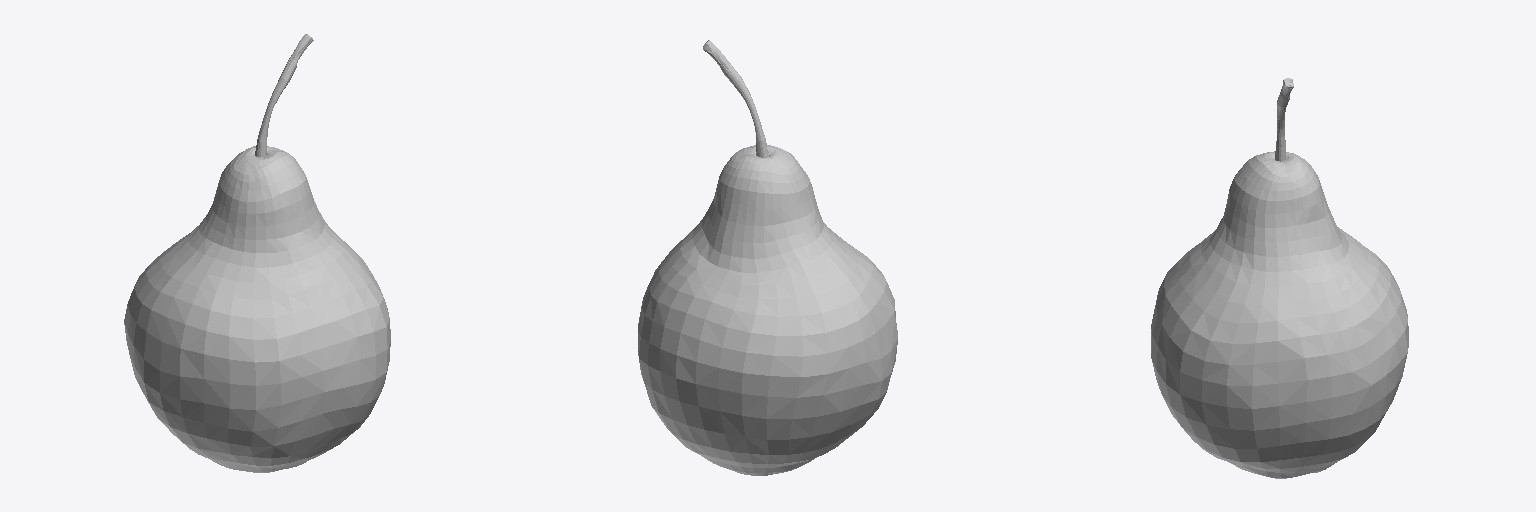
The model's file is Pear.obj.
3 renders of one model, left to right at view 1: azimuth 30°, elevation 25°; view 2: azimuth 150°, elevation 25°; view 3: azimuth 270°, elevation 25°, orthographic.
Parts seen in each view (by area): view 1: pear.002_Cube.002; view 2: pear.002_Cube.002; view 3: pear.002_Cube.002.
Part boxes in pixels (x1,y1,x2,y2): pear.002_Cube.002: (124, 34, 390, 472); pear.002_Cube.002: (638, 40, 897, 475); pear.002_Cube.002: (1151, 78, 1408, 478).
Bounding box in the file's own units: 3.29 × 5.72 × 3.26.